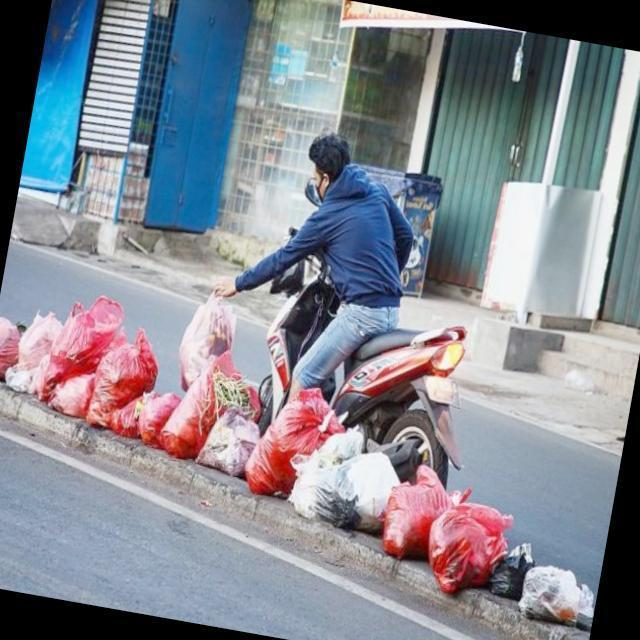garbage: (360, 455, 614, 638), (237, 378, 396, 548), (9, 278, 124, 428), (84, 316, 165, 432), (169, 278, 244, 401), (203, 404, 260, 476), (0, 291, 27, 389), (133, 390, 175, 450)
